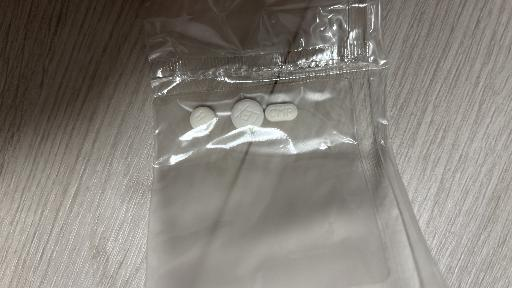Elexin: (190, 107, 215, 128)
Humosa: (265, 103, 298, 122)
Lexofen: (231, 99, 264, 128)
vinyl: (143, 0, 443, 288)
